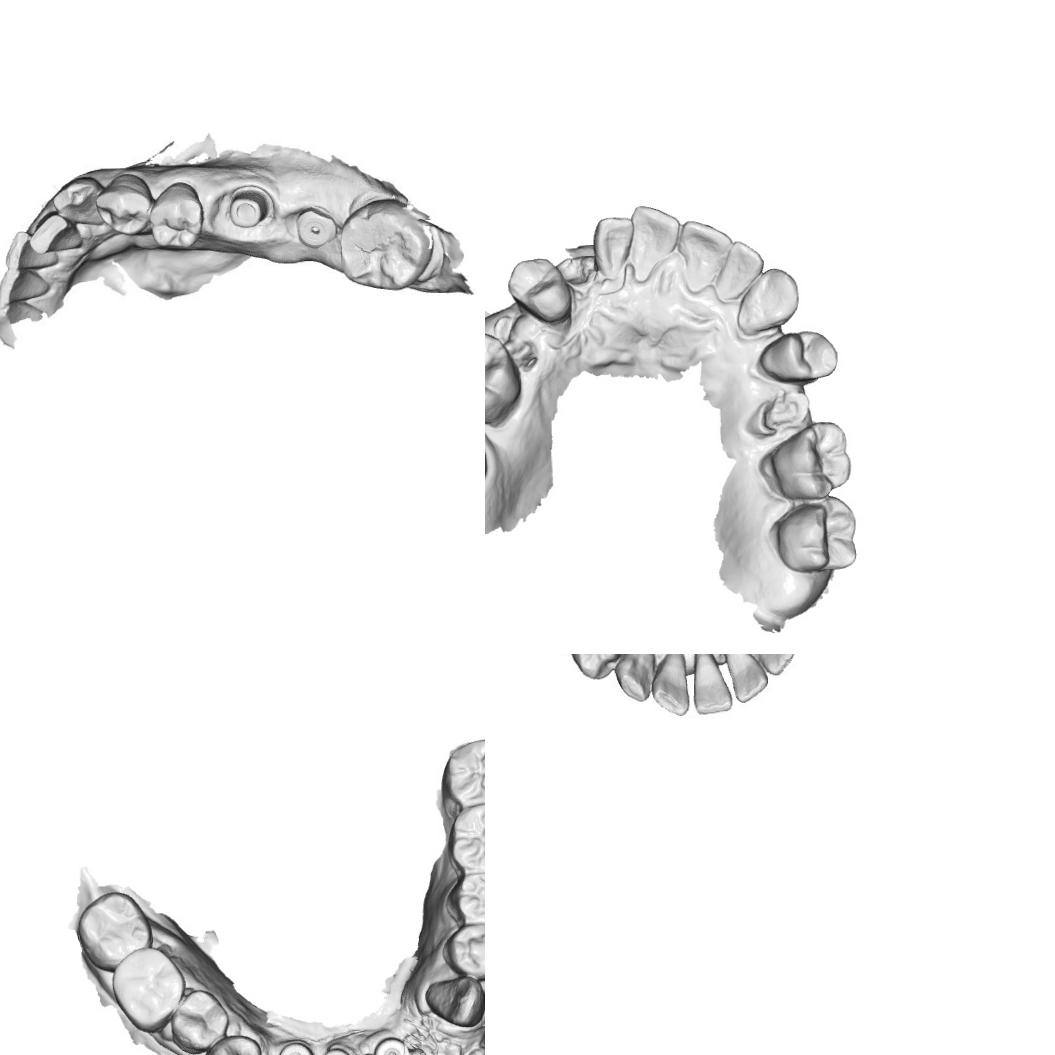abutment: (226, 184, 274, 230)
canine: (734, 266, 800, 335), (51, 174, 106, 236), (421, 976, 485, 1026), (615, 654, 657, 702)
implant: (292, 204, 340, 252), (375, 1034, 406, 1055), (275, 1042, 312, 1055), (318, 1048, 348, 1055)
incisor: (674, 218, 736, 285), (628, 201, 678, 269), (715, 239, 765, 302), (591, 213, 634, 278), (27, 210, 85, 254), (2, 228, 59, 270), (652, 654, 689, 718), (720, 654, 765, 702), (694, 654, 731, 711), (0, 266, 51, 307), (743, 654, 798, 673)
molar: (336, 196, 436, 292), (772, 493, 860, 574), (108, 946, 188, 1034), (766, 418, 850, 500), (76, 890, 152, 970), (485, 328, 523, 425), (442, 737, 485, 810), (448, 800, 485, 875)
premolar: (504, 257, 576, 326), (756, 330, 841, 386), (147, 178, 209, 251), (166, 989, 230, 1055), (96, 170, 146, 241), (441, 925, 485, 982), (450, 869, 485, 925), (570, 654, 623, 682), (202, 1033, 262, 1055)
